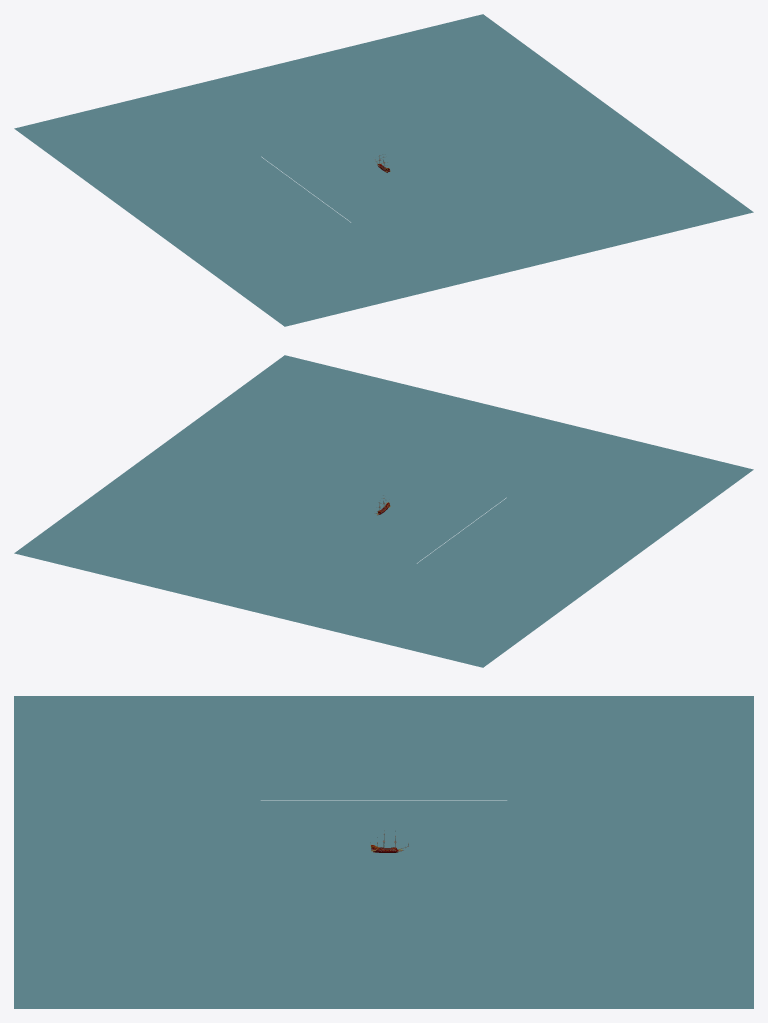
File: ship1.gltf
3 renders of one model, top to bottom at view 1: azimuth 30°, elevation 25°; view 2: azimuth 150°, elevation 25°; view 3: azimuth 270°, elevation 25°, orthographic. The views are drawn at different scales.
Parts seen in each view (by area): view 1: Plane.045, Plane.042, Plane.038, Plane.044, Plane.041, Plane.043, Plane.040, Plane.039, Plane.037; view 2: Plane.044, Plane.042, Plane.045, Plane.041, Plane.038, Plane.040, Plane.043, Plane.039, Plane.037; view 3: Plane.038, Plane.045, Plane.044, Plane.043, Plane.042, Plane.041, Plane.040, Plane.037, Plane.039.
Boxes of the visible parts, <box> form: Plane.045: <box>507,146,753,250</box>; Plane.042: <box>170,52,416,156</box>; Plane.038: <box>104,156,350,260</box>; Plane.044: <box>195,222,440,326</box>; Plane.041: <box>14,90,260,194</box>; Plane.043: <box>351,184,597,288</box>; Plane.040: <box>327,14,572,118</box>; Plane.039: <box>417,80,663,184</box>; Plane.037: <box>261,118,507,222</box>; Plane.044: <box>507,431,753,535</box>; Plane.042: <box>170,525,416,629</box>; Plane.045: <box>195,355,440,459</box>; Plane.041: <box>327,563,572,667</box>; Plane.038: <box>417,497,663,601</box>; Plane.040: <box>14,487,260,591</box>; Plane.043: <box>351,393,597,497</box>; Plane.039: <box>104,421,350,525</box>; Plane.037: <box>261,459,506,563</box>; Plane.038: <box>260,696,507,800</box>; Plane.045: <box>14,904,260,1008</box>; Plane.044: <box>14,696,260,800</box>; Plane.043: <box>14,800,260,904</box>; Plane.042: <box>507,800,753,904</box>; Plane.041: <box>507,696,753,800</box>; Plane.040: <box>507,904,753,1008</box>; Plane.037: <box>260,800,507,904</box>; Plane.039: <box>260,904,507,1008</box>.
Size of what is drawn, in the model's own units: 159 by 6.33 by 159.
